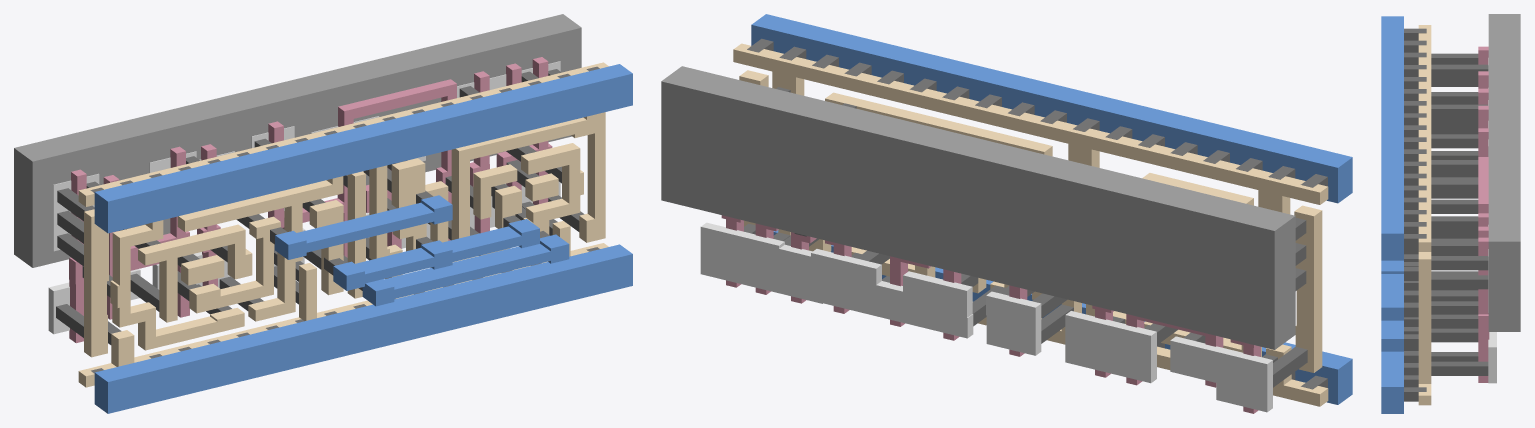
The model's file is sky130_fd_sc_hd__xnor3_1.gds.gltf.
3 views of the same model, side by side, from view 1: azimuth 30°, elevation 25°; view 2: azimuth 150°, elevation 25°; view 3: azimuth 270°, elevation 25° (orthographic). The views are drawn at different scales.
Visible parts, largest first — view 1: sky130_fd_sc_hd__xnor3_1_met1, sky130_fd_sc_hd__xnor3_1_li1, sky130_fd_sc_hd__xnor3_1_nwell, sky130_fd_sc_hd__xnor3_1_poly, sky130_fd_sc_hd__xnor3_1_licon, sky130_fd_sc_hd__xnor3_1_diff, sky130_fd_sc_hd__xnor3_1_mcon; view 2: sky130_fd_sc_hd__xnor3_1_nwell, sky130_fd_sc_hd__xnor3_1_diff, sky130_fd_sc_hd__xnor3_1_li1, sky130_fd_sc_hd__xnor3_1_met1, sky130_fd_sc_hd__xnor3_1_mcon, sky130_fd_sc_hd__xnor3_1_licon, sky130_fd_sc_hd__xnor3_1_poly; view 3: sky130_fd_sc_hd__xnor3_1_licon, sky130_fd_sc_hd__xnor3_1_nwell, sky130_fd_sc_hd__xnor3_1_met1, sky130_fd_sc_hd__xnor3_1_mcon, sky130_fd_sc_hd__xnor3_1_li1, sky130_fd_sc_hd__xnor3_1_poly, sky130_fd_sc_hd__xnor3_1_diff.
Part boxes in pixels (box(x1,y1,x2,y2)): sky130_fd_sc_hd__xnor3_1_met1: box(94, 64, 632, 413); sky130_fd_sc_hd__xnor3_1_li1: box(78, 62, 608, 387); sky130_fd_sc_hd__xnor3_1_nwell: box(14, 14, 581, 267); sky130_fd_sc_hd__xnor3_1_poly: box(69, 57, 552, 343); sky130_fd_sc_hd__xnor3_1_licon: box(56, 69, 584, 344); sky130_fd_sc_hd__xnor3_1_diff: box(48, 61, 560, 334); sky130_fd_sc_hd__xnor3_1_mcon: box(90, 66, 599, 373); sky130_fd_sc_hd__xnor3_1_nwell: box(661, 66, 1295, 349); sky130_fd_sc_hd__xnor3_1_diff: box(700, 222, 1272, 412); sky130_fd_sc_hd__xnor3_1_li1: box(733, 43, 1328, 406); sky130_fd_sc_hd__xnor3_1_met1: box(751, 14, 1352, 404); sky130_fd_sc_hd__xnor3_1_mcon: box(747, 38, 1327, 389); sky130_fd_sc_hd__xnor3_1_licon: box(744, 87, 1307, 387); sky130_fd_sc_hd__xnor3_1_poly: box(721, 215, 1260, 413); sky130_fd_sc_hd__xnor3_1_licon: box(1431, 53, 1488, 375); sky130_fd_sc_hd__xnor3_1_nwell: box(1488, 14, 1520, 331); sky130_fd_sc_hd__xnor3_1_met1: box(1381, 16, 1403, 413); sky130_fd_sc_hd__xnor3_1_mcon: box(1404, 28, 1426, 401); sky130_fd_sc_hd__xnor3_1_li1: box(1418, 25, 1431, 405); sky130_fd_sc_hd__xnor3_1_poly: box(1478, 46, 1489, 382); sky130_fd_sc_hd__xnor3_1_diff: box(1488, 58, 1496, 383).
Size of the model in its own units: 8.66 by 3.2 by 2.24.
